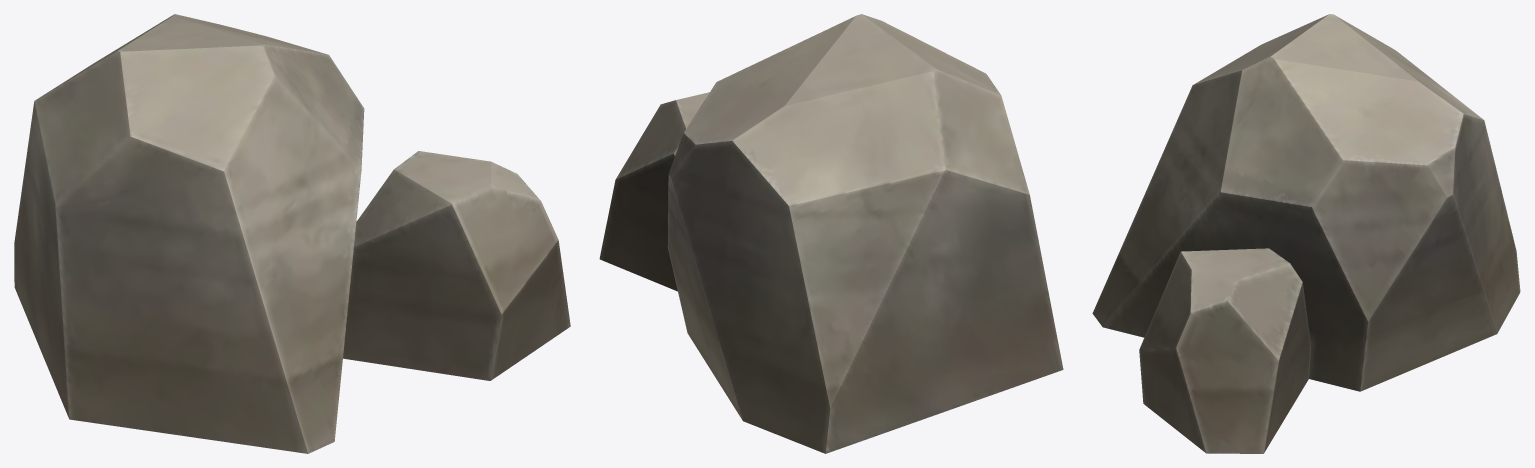
Rendered from rock_granite_small.glb.
3 views of the same model, side by side, from view 1: azimuth 30°, elevation 25°; view 2: azimuth 150°, elevation 25°; view 3: azimuth 270°, elevation 25° (orthographic). The views are drawn at different scales.
Parts seen in each view (by area): view 1: Static_Mesh; view 2: Static_Mesh; view 3: Static_Mesh.
Part boxes in pixels (<box>): Static_Mesh: <box>14,14,570,453</box>; Static_Mesh: <box>599,14,1063,453</box>; Static_Mesh: <box>1092,14,1520,453</box>.
Size of the model in its own units: 0.6169 by 0.3999 by 0.5522.
1 material, 1 textured.
